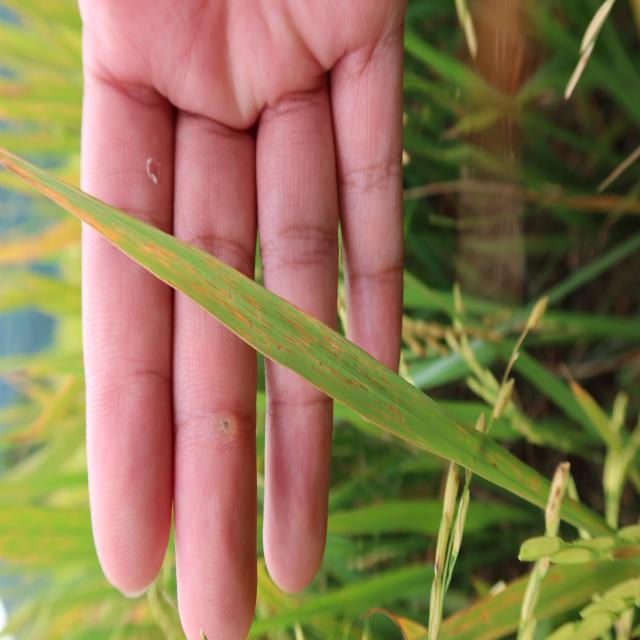Dom soc vi khuan: (28, 177, 271, 349), (299, 308, 396, 394)
